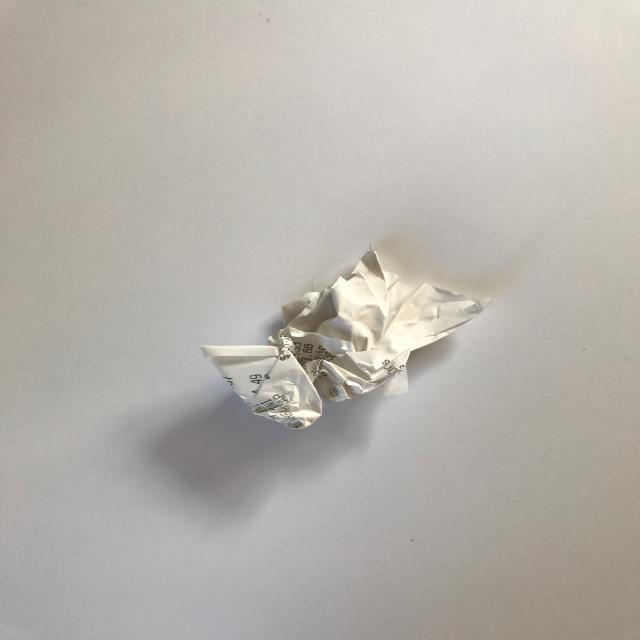paper: (197, 243, 491, 431)
